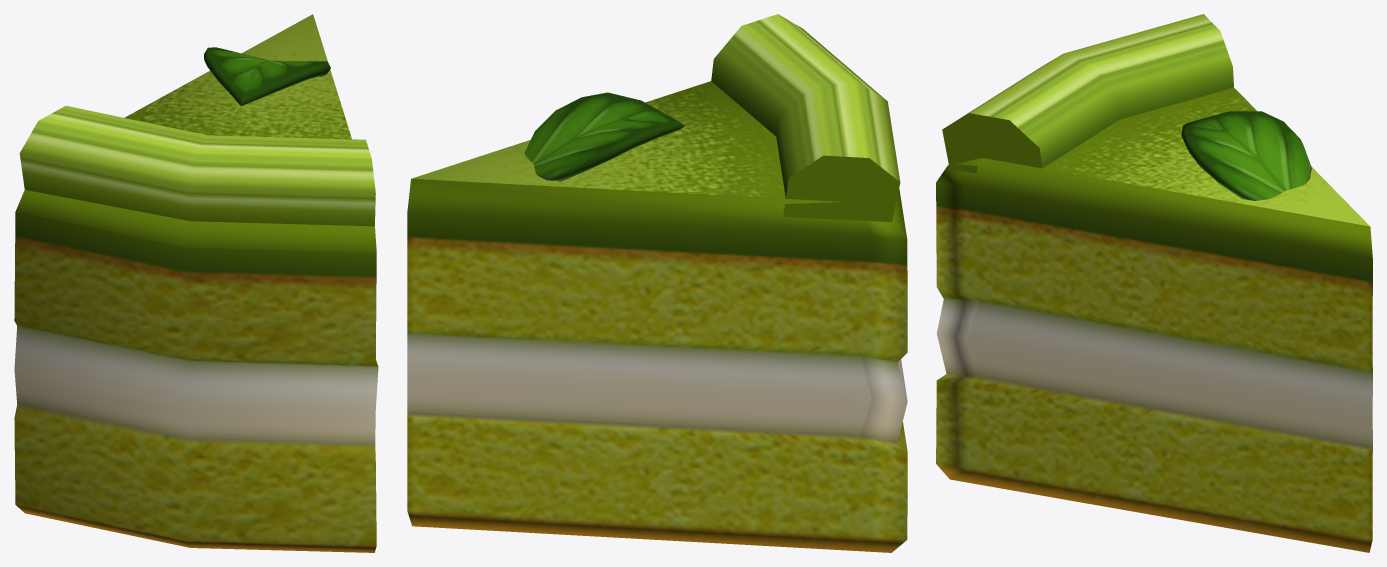
Rendered from 008-Cake08.FBX.
3 views of the same model, side by side, from view 1: azimuth 30°, elevation 25°; view 2: azimuth 150°, elevation 25°; view 3: azimuth 270°, elevation 25° (orthographic). The views are drawn at different scales.
Parts seen in each view (by area): view 1: 008-Cake08; view 2: 008-Cake08; view 3: 008-Cake08.
Boxes of the visible parts, left/top/right/bottom form: 008-Cake08: left=14, top=14, right=378, bottom=552; 008-Cake08: left=407, top=14, right=907, bottom=552; 008-Cake08: left=936, top=14, right=1372, bottom=552.
Bounding box in the file's own units: 15.19 × 14.16 × 15.16.
